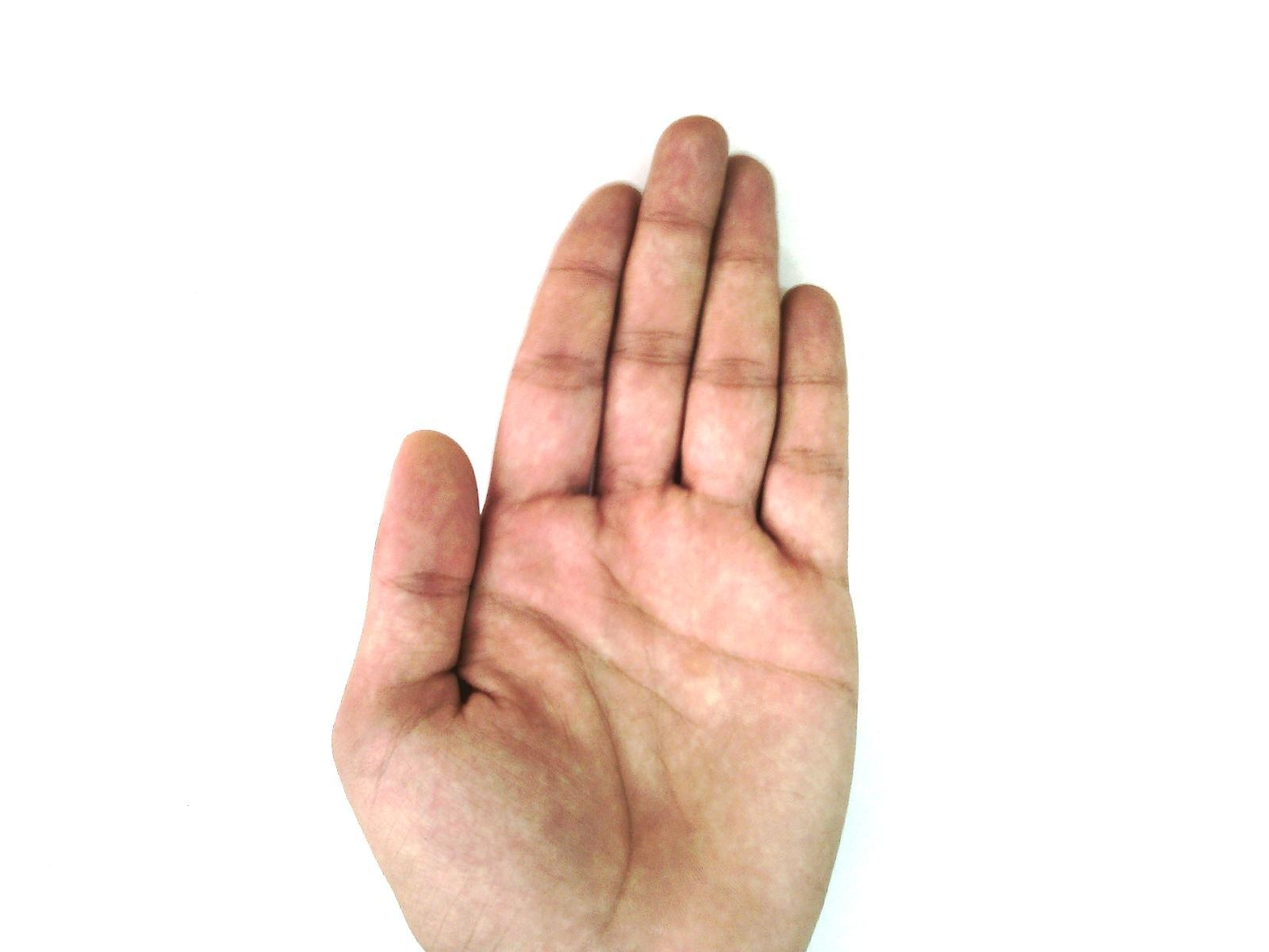open_palm: (329, 114, 863, 951)
